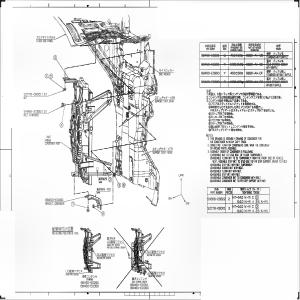PartNumber: (207, 197, 226, 202), (23, 92, 42, 96), (23, 109, 42, 113), (45, 198, 64, 202), (80, 284, 99, 288), (80, 280, 99, 284), (130, 286, 149, 290), (201, 71, 220, 75), (207, 206, 225, 210), (130, 283, 149, 286)
